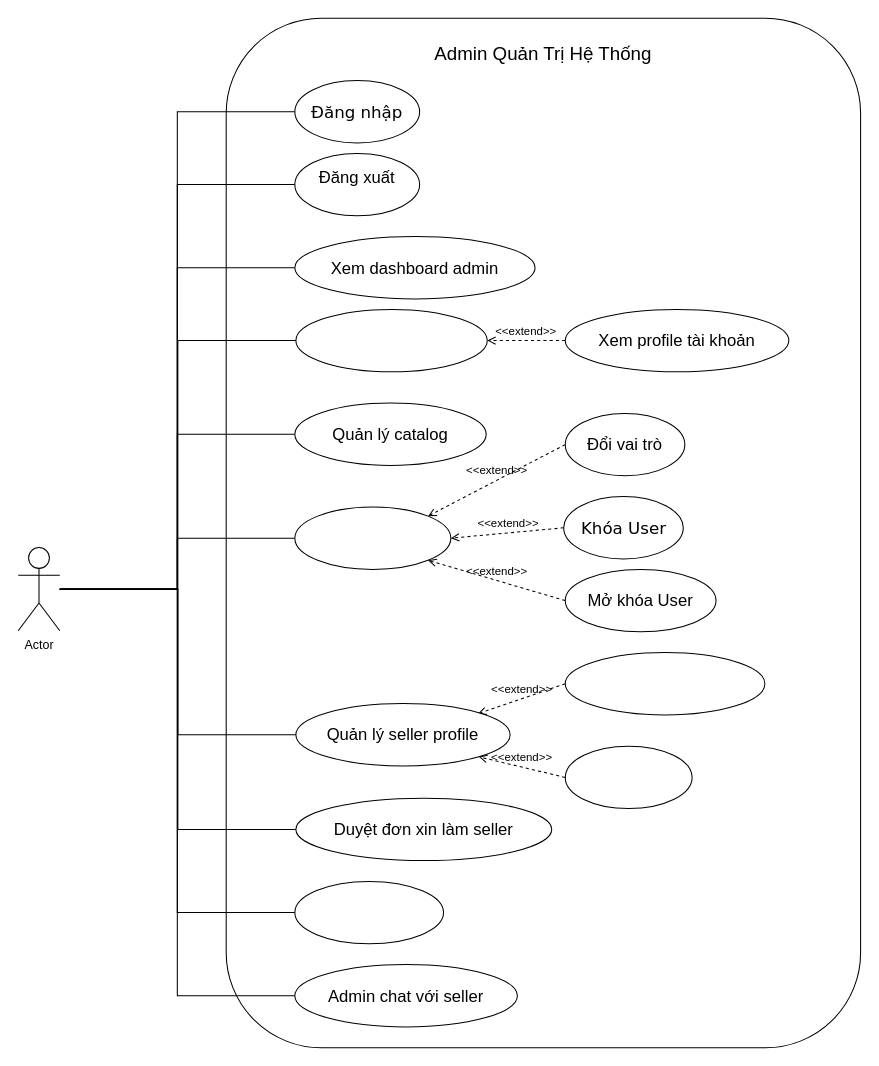
Image size: 879x1066. Some labels were removed from this diagram. The shapes that lost their labels are listed below. From the top down, each one's centre as x and y in pixels, then its label:
(x=391, y=340): Quản lý tài khoản
(x=372, y=537): Quản lý buyer
(x=664, y=683): Chỉnh seller profile
(x=628, y=777): Verify Seller
(x=369, y=912): Xem audit log
